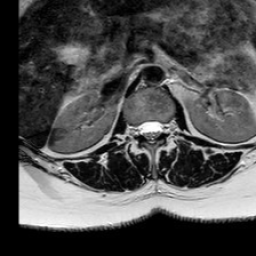CCS_normal: (146, 112, 154, 150)
LFS_normal: (162, 112, 169, 140)
LLS_normal: (154, 112, 162, 145)
RFS_normal: (130, 115, 138, 145)
RLS_normal: (138, 113, 146, 145)
